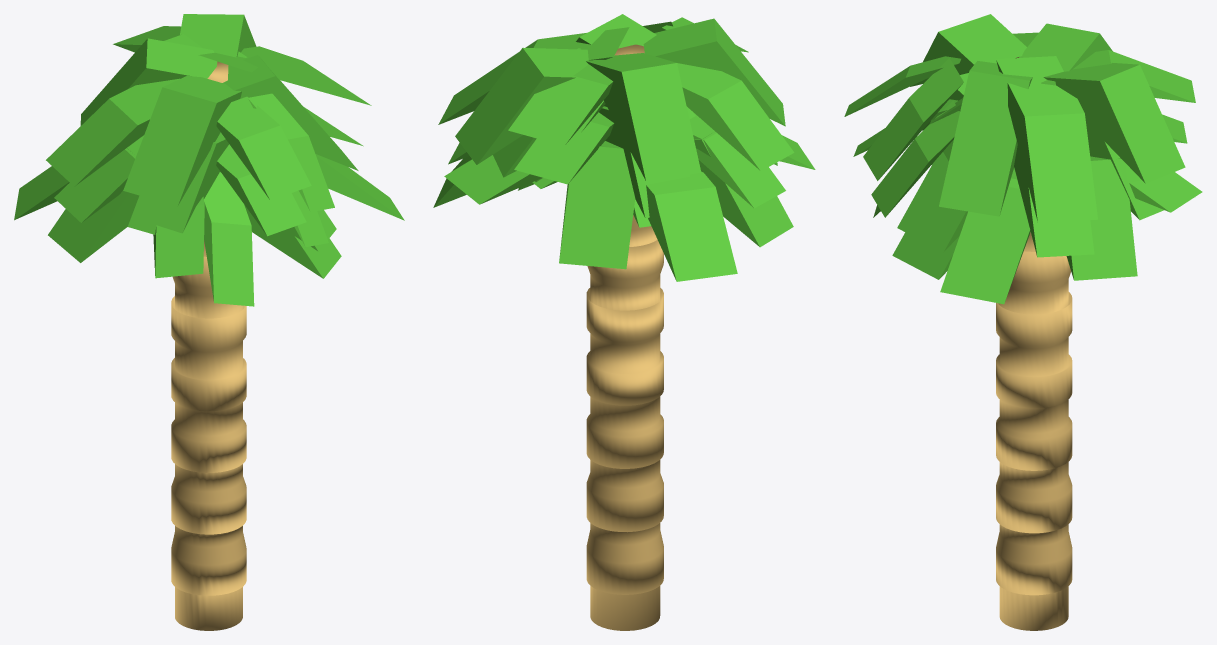
The model's file is Palm tree.fbx.
3 renders of one model, left to right at view 1: azimuth 30°, elevation 25°; view 2: azimuth 150°, elevation 25°; view 3: azimuth 270°, elevation 25°, orthographic. The views are drawn at different scales.
Visible parts, largest first — view 1: Cube.036; view 2: Cube.036; view 3: Cube.036.
Boxes of the visible parts, box(x1,y1,x2,y2) form: Cube.036: box(14, 14, 404, 630); Cube.036: box(433, 14, 815, 630); Cube.036: box(844, 14, 1202, 630).
Bounding box in the file's own units: 898 × 1512 × 864.
